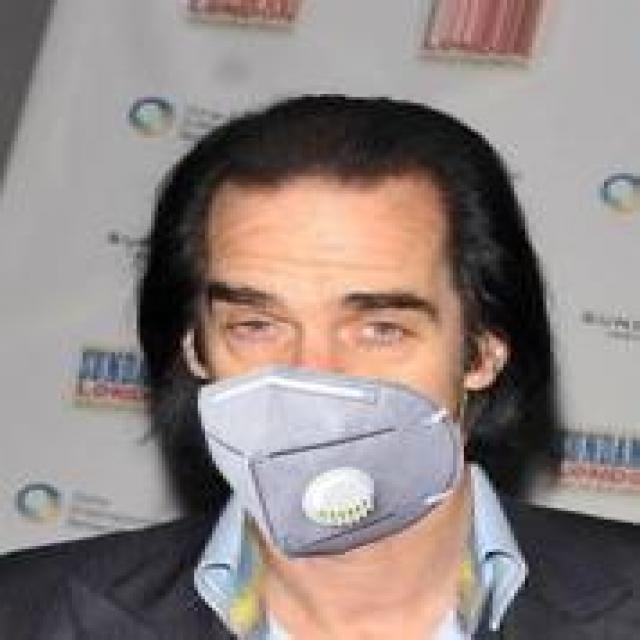mask: (111, 153, 572, 534)
